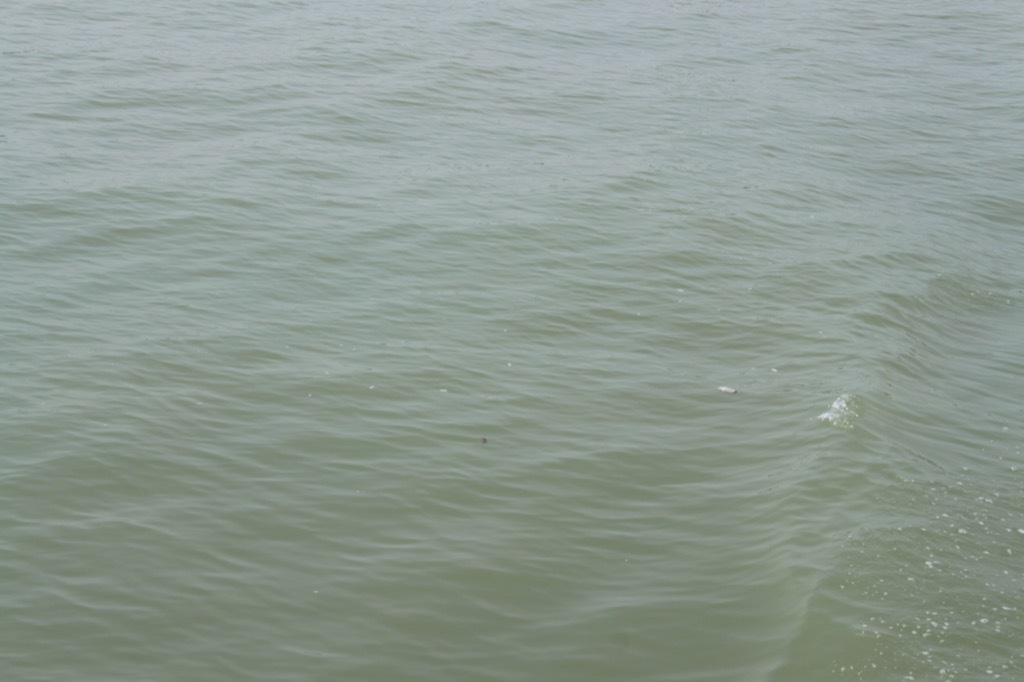plastic: (710, 378, 745, 400), (470, 433, 504, 452)
